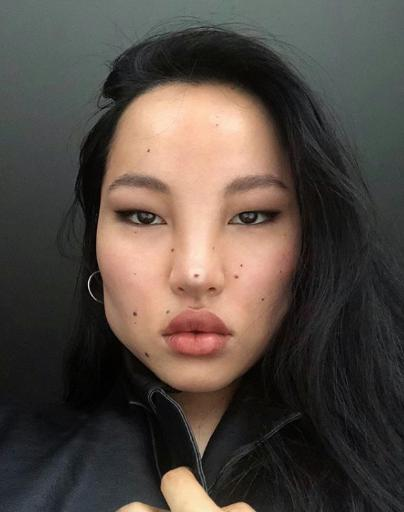left_eye: (227, 208, 282, 230)
left_lip_corner: (224, 324, 241, 347)
right_eye: (116, 208, 169, 230)
right_lip_corner: (157, 323, 171, 345)
